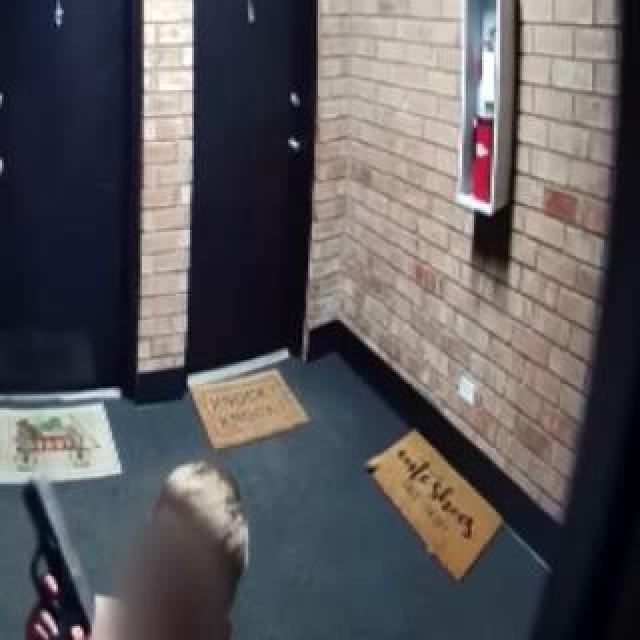Guns: (5, 469, 105, 640)
